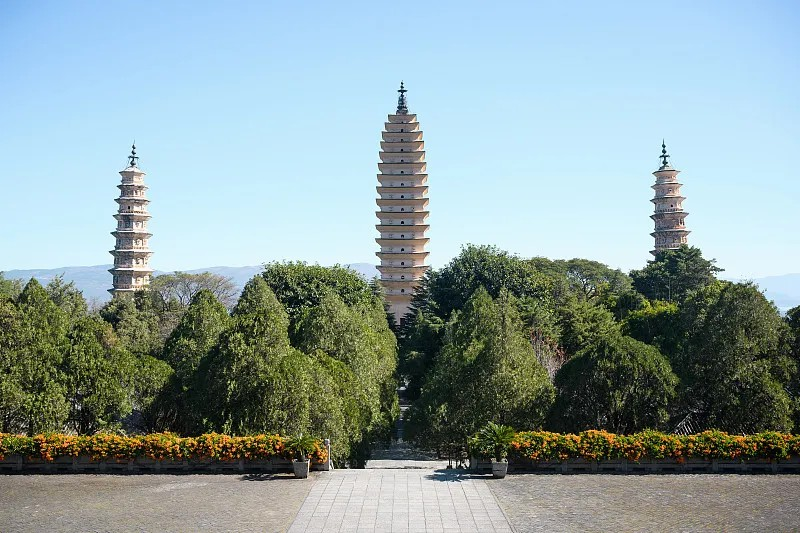ThreePagoda: (375, 81, 431, 324)
